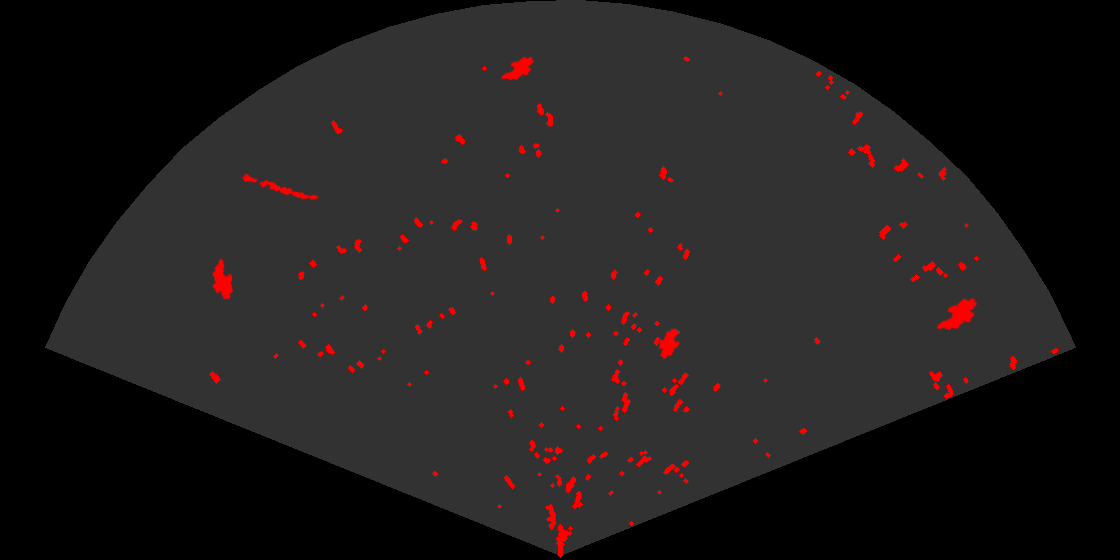AUV: (935, 296, 979, 332), (211, 257, 235, 301), (499, 55, 535, 82), (657, 327, 681, 361)
chain: (236, 172, 320, 202)
